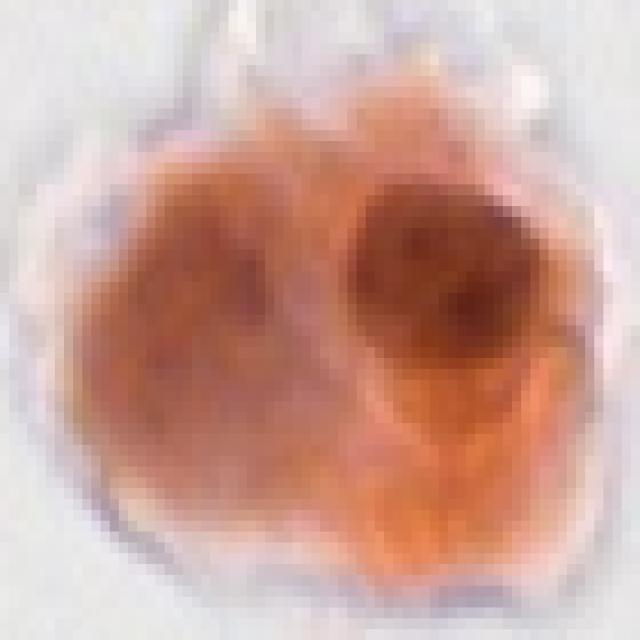nucleus: (335, 170, 562, 383)
